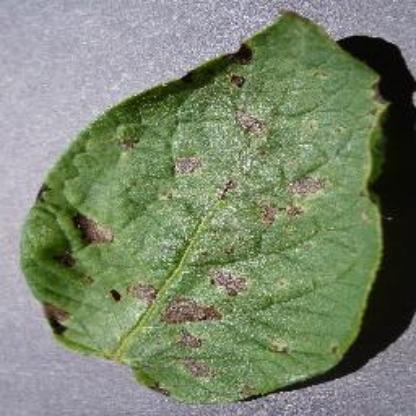Early-Blight: (20, 9, 392, 404)
